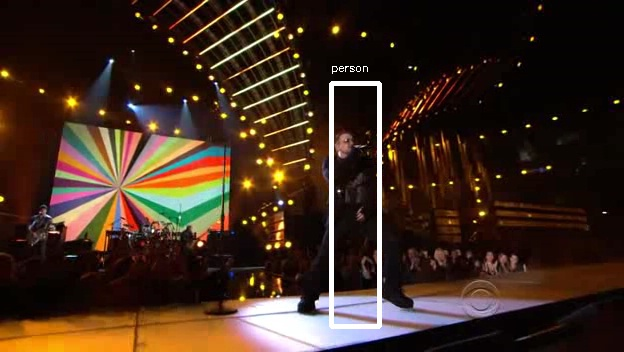person: (322, 132, 386, 249), (319, 132, 383, 249), (325, 132, 389, 249), (322, 129, 386, 246), (322, 135, 386, 252)
target_negative: (88, 162, 494, 321), (120, 92, 420, 271), (283, 83, 320, 318), (322, 306, 589, 328), (276, 144, 516, 158), (219, 313, 354, 325)
